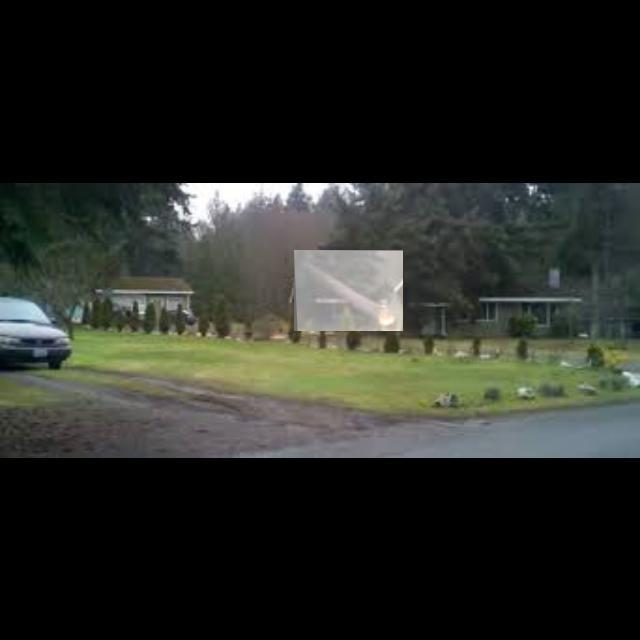fallen_tree: (294, 250, 404, 332)
